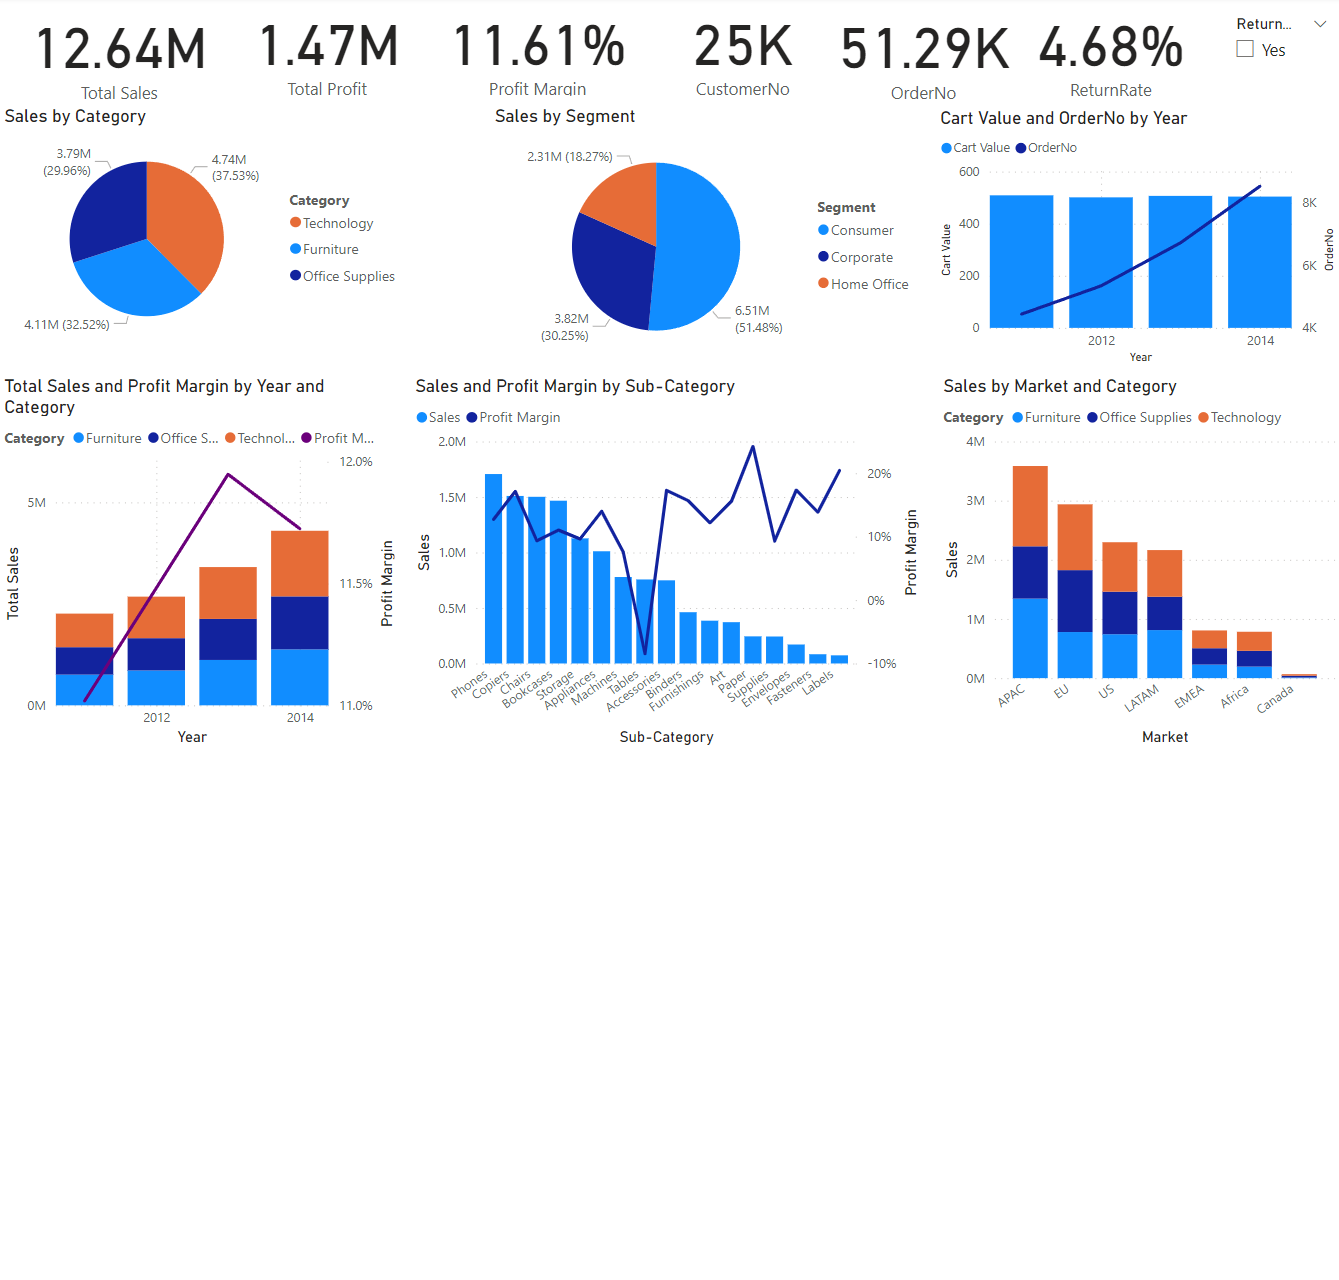

The dashboard page shown, as its layout file describes it:
{"tool":"powerbi","page":{"name":"Page 1","canvas":[1280,720],"ordinal":0},"visuals":[{"type":"card","fields":{"Values":["Orders.Total Sales"]},"box":[0,0,229.1,106],"z":0},{"type":"card","fields":{"Values":["Orders.Total Profit"]},"box":[206.4,0,214,100.4],"z":1000},{"type":"card","fields":{"Values":["Orders.Profit Margin"]},"box":[420.4,0,185.6,100.4],"z":2000},{"type":"card","fields":{"Values":["Orders.OrderNo"]},"box":[602.1,0,214,100.4],"z":3000},{"type":"card","fields":{"Values":["Returns.ReturnRate"]},"box":[969.5,0,183.7,102.2],"z":4000},{"type":"pieChart","fields":{"Y":["Sum(Orders.Sales)"],"Category":["Orders.Category"]},"box":[0,104.1,392,234.8],"z":5000},{"type":"pieChart","fields":{"Y":["Sum(Orders.Sales)"],"Category":["Orders.Segment"]},"box":[467.7,104.1,414.7,249.9],"z":6000},{"type":"lineStackedColumnComboChart","fields":{"Category":["Orders.Order Date.Variation.Date Hierarchy.Year","Orders.Order Date.Variation.Date Hierarchy.Quarter","Orders.Order Date.Variation.Date Hierarchy.Month","Orders.Order Date.Variation.Date Hierarchy.Day"],"Y":["Orders.Total Sales"],"Y2":["Orders.Profit Margin"],"Series":["Orders.Category"]},"box":[0,361.7,382.5,357.9],"z":7000},{"type":"lineStackedColumnComboChart","fields":{"Category":["Orders.Market Hierarchy.Market","Orders.Market Hierarchy.Region","Orders.Market Hierarchy.Country","Orders.Market Hierarchy.State","Orders.Market Hierarchy.City"],"Y":["Sum(Orders.Sales)"],"Series":["Orders.Category"]},"box":[895.6,361.7,384.4,357.9],"z":8000},{"type":"lineStackedColumnComboChart","fields":{"Category":["Orders.Order Date.Variation.Date Hierarchy.Year","Orders.Order Date.Variation.Date Hierarchy.Quarter","Orders.Order Date.Variation.Date Hierarchy.Month","Orders.Order Date.Variation.Date Hierarchy.Day"],"Y":["Orders.Cart Value"],"Y2":["Orders.OrderNo"]},"box":[893.7,106,386.3,249.9],"z":10000},{"type":"slicer","fields":{"Values":["Returns.Returned"]},"box":[1168.3,13.3,111.7,92.8],"z":11000},{"type":"card","fields":{"Values":["CountNonNull(Orders.Order ID)"]},"box":[782,0,200.7,106],"z":12000},{"type":"lineClusteredColumnComboChart","fields":{"Category":["Orders.Sub-Category"],"Y":["Sum(Orders.Sales)"],"Y2":["Orders.Profit Margin"]},"box":[392,361.7,490.4,357.9],"z":12001}]}

Visuals, with their boxes on the page's 1280x720 design canvas (x1, y1, x2, y2). These are canvas units, not pixel positions in the 1339x1280 screenshot, which may show the page scaled, cropped or inside an application window:
card - Orders.Total Sales: x1=0, y1=0, x2=229, y2=106
card - Orders.Total Profit: x1=206, y1=0, x2=420, y2=100
card - Orders.Profit Margin: x1=420, y1=0, x2=606, y2=100
card - Orders.OrderNo: x1=602, y1=0, x2=816, y2=100
card - Returns.ReturnRate: x1=970, y1=0, x2=1153, y2=102
pieChart - Sum(Orders.Sales) x Orders.Category: x1=0, y1=104, x2=392, y2=339
pieChart - Sum(Orders.Sales) x Orders.Segment: x1=468, y1=104, x2=882, y2=354
lineStackedColumnComboChart - Orders.Order Date.Variation.Date Hierarchy.Year x Orders.Order Date.Variation.Date Hierarchy.Quarter: x1=0, y1=362, x2=382, y2=720
lineStackedColumnComboChart - Orders.Market Hierarchy.Market x Orders.Market Hierarchy.Region: x1=896, y1=362, x2=1280, y2=720
lineStackedColumnComboChart - Orders.Order Date.Variation.Date Hierarchy.Year x Orders.Order Date.Variation.Date Hierarchy.Quarter: x1=894, y1=106, x2=1280, y2=356
slicer - Returns.Returned: x1=1168, y1=13, x2=1280, y2=106
card - CountNonNull(Orders.Order ID): x1=782, y1=0, x2=983, y2=106
lineClusteredColumnComboChart - Orders.Sub-Category x Sum(Orders.Sales): x1=392, y1=362, x2=882, y2=720
